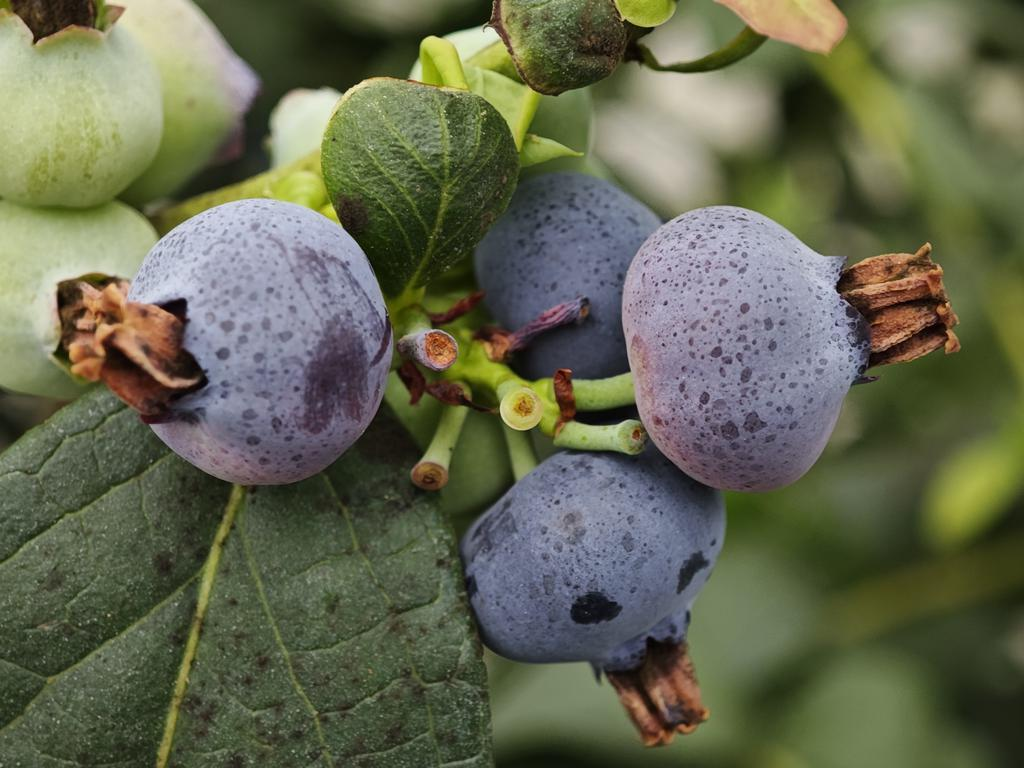RipeBlueBerry: (99, 195, 399, 492), (462, 442, 734, 719)
Semi-RipeBlueBerry: (618, 200, 909, 501)
